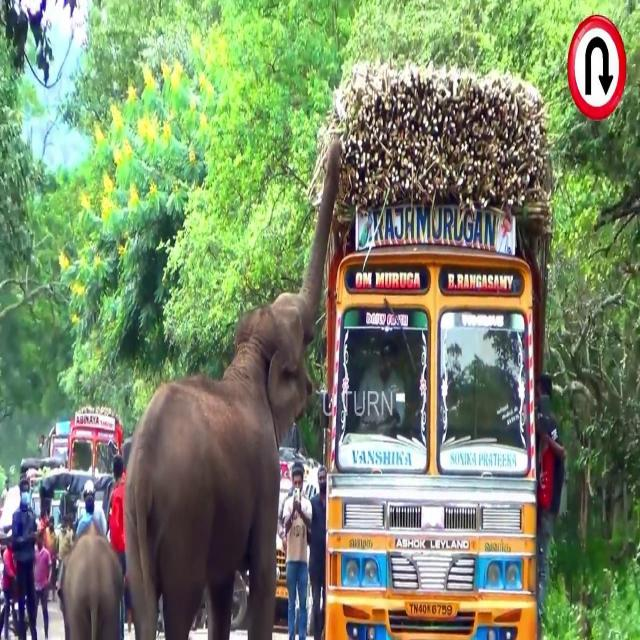Elephant: (123, 138, 343, 636)
